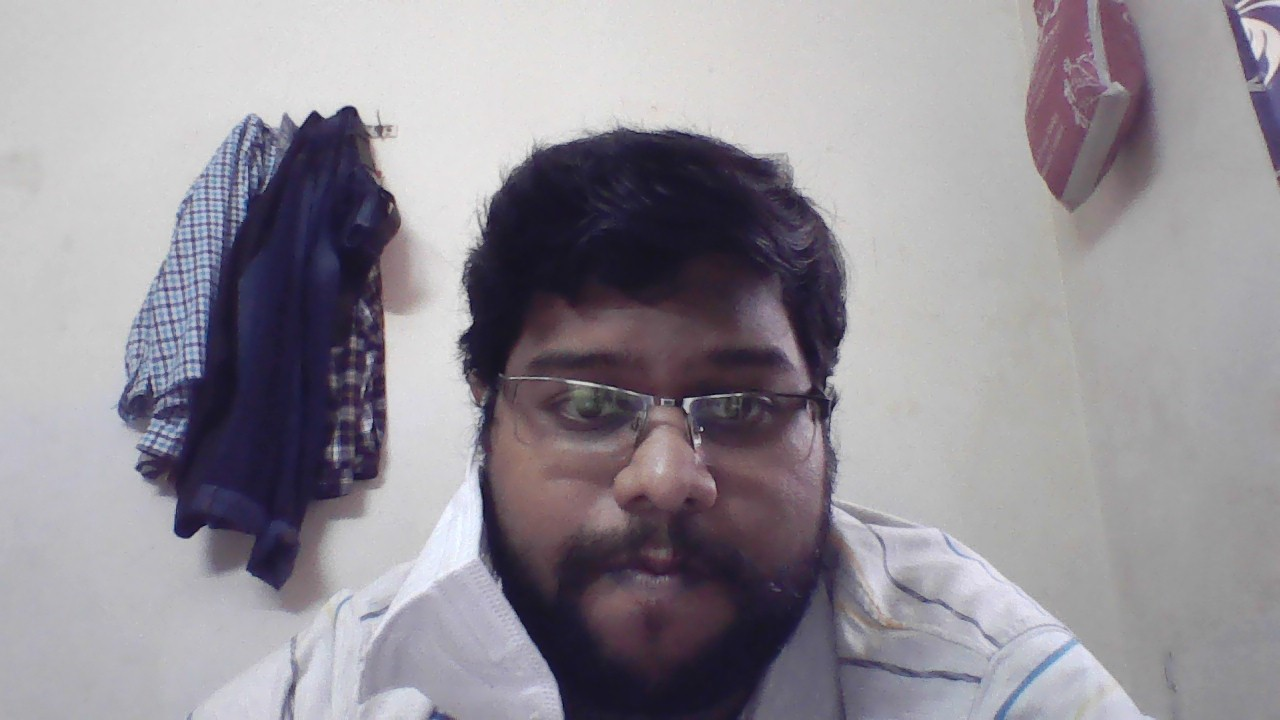NoMask: (409, 420, 828, 699)
